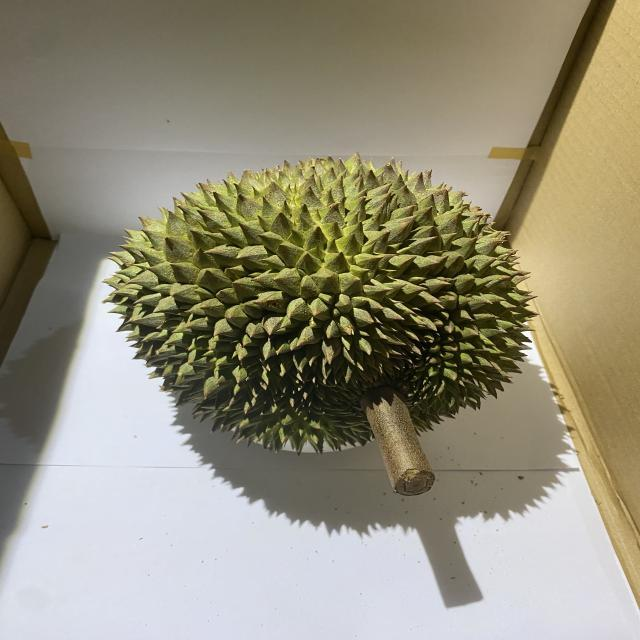immature: (106, 152, 541, 454)
